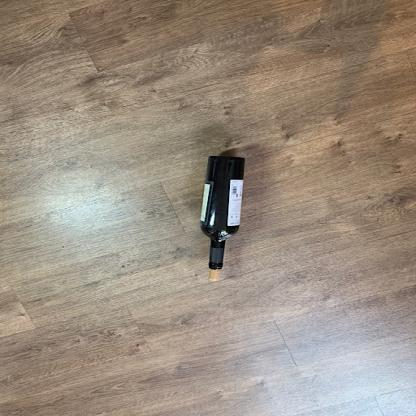trash: (196, 153, 245, 273)
